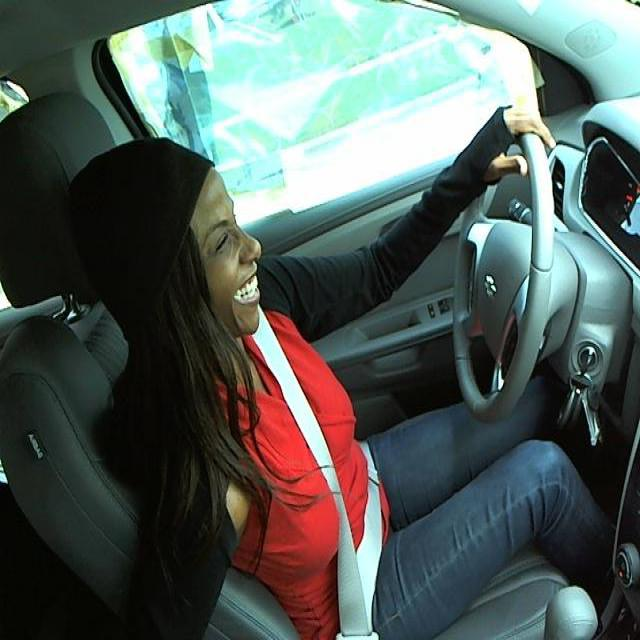seatbelt: (275, 392, 391, 639)
